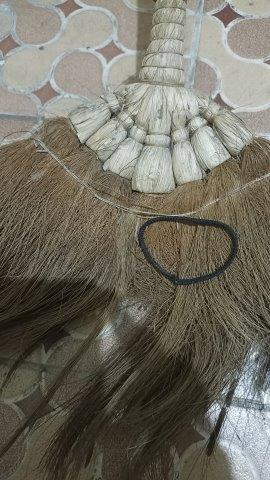karet: (139, 216, 238, 286)
